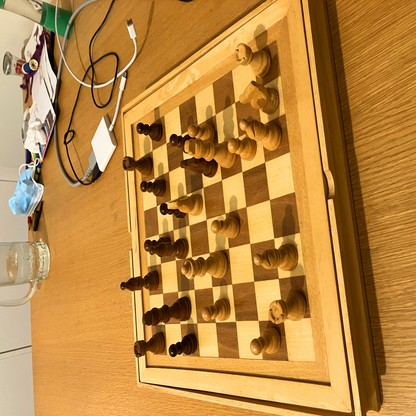bishop_black: (121, 269, 158, 293), (149, 239, 189, 259)
bishop_white: (238, 119, 282, 150), (254, 244, 298, 270)
king_black: (142, 295, 192, 324)
king_white: (185, 140, 237, 169)
knight_black: (181, 157, 218, 177)
knight_white: (239, 80, 280, 113), (168, 194, 203, 217)
pawn_black: (168, 334, 198, 355), (137, 122, 163, 139), (141, 179, 166, 195)
pawn_white: (251, 329, 281, 355), (212, 215, 240, 239), (227, 139, 257, 161), (202, 299, 230, 320), (188, 125, 217, 142)
queen_white: (182, 249, 228, 280)
rock_black: (134, 332, 165, 357), (123, 157, 153, 175)
rock_white: (267, 289, 307, 324), (234, 43, 272, 77)
